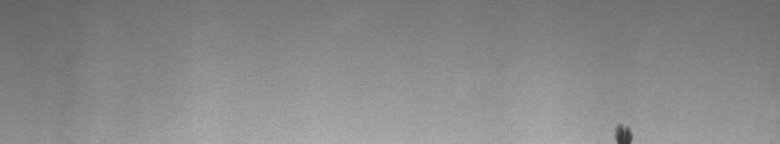fi: (608, 119, 636, 136)
